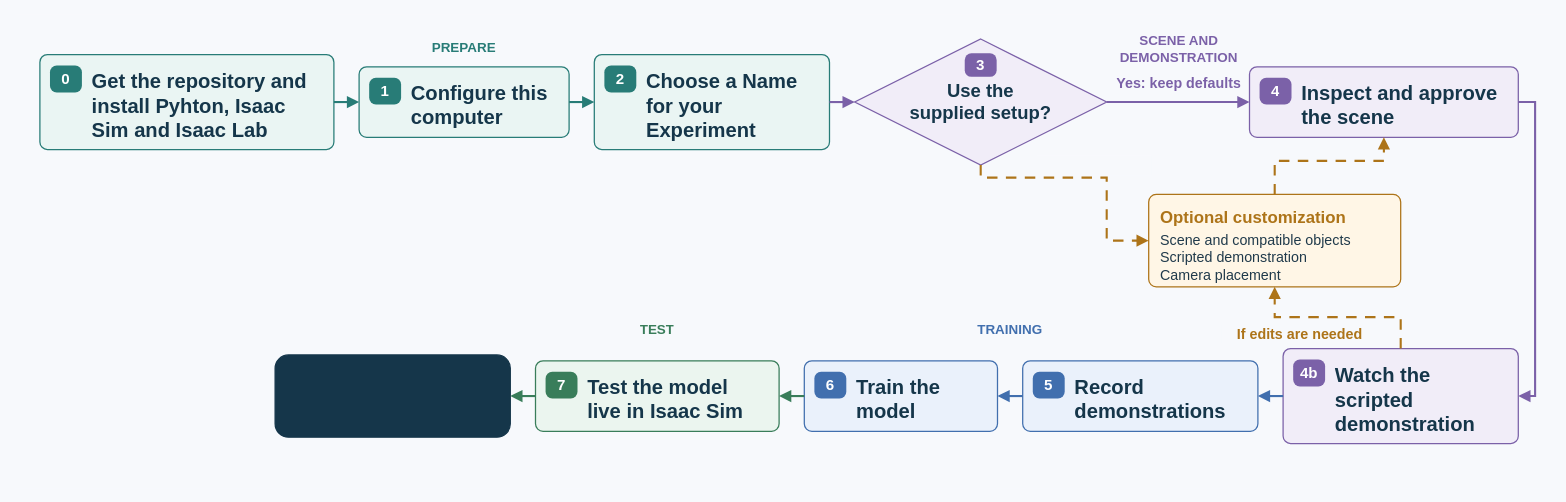
Some shapes in this 1566 by 502 pixel diagram are drawn without their labels. The shapes that lost their labels are listed below. From the top down, each one's box as (x1, y1, x2, y2) in pixels, then its label:
(1037, 155, 1151, 175): Customize
(274, 354, 511, 437): Watch videos from all three views.
